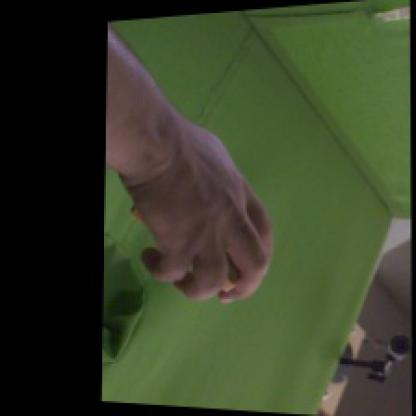Hand: (136, 130, 274, 304)
